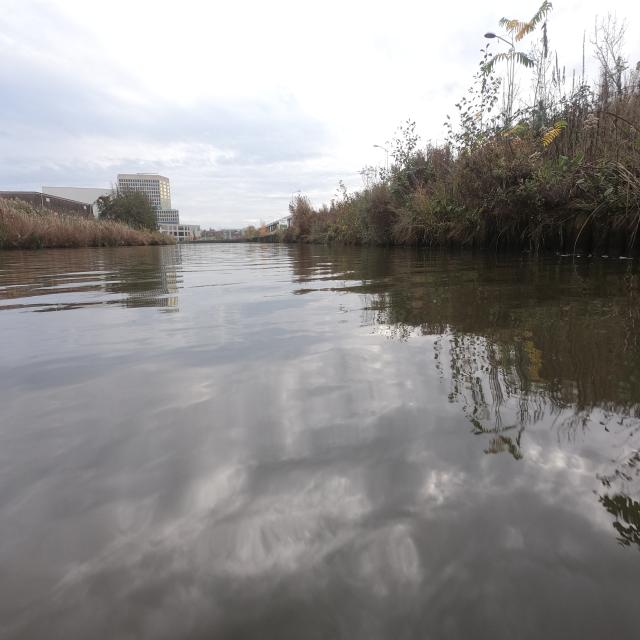reed: (281, 19, 640, 257), (1, 199, 175, 248)
sky: (2, 1, 536, 224), (549, 1, 599, 69)
water: (1, 241, 639, 639)
